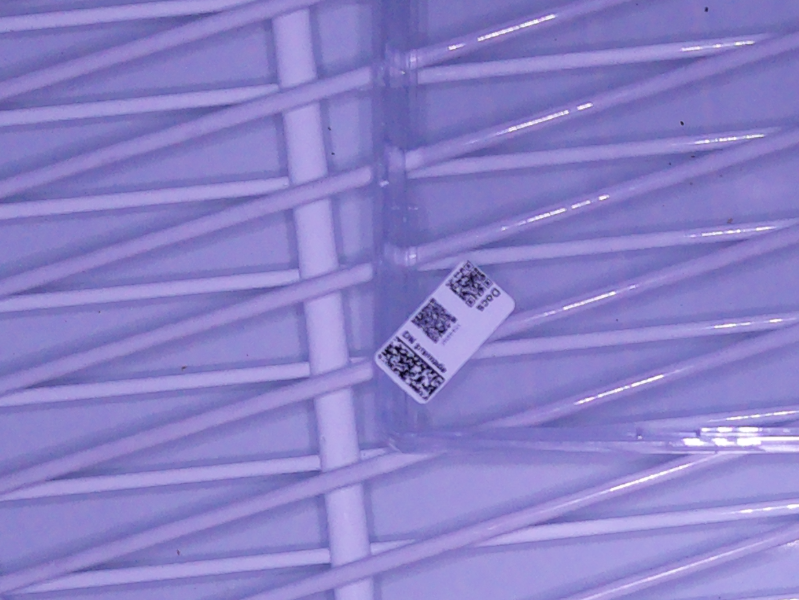plate: (368, 1, 799, 461)
